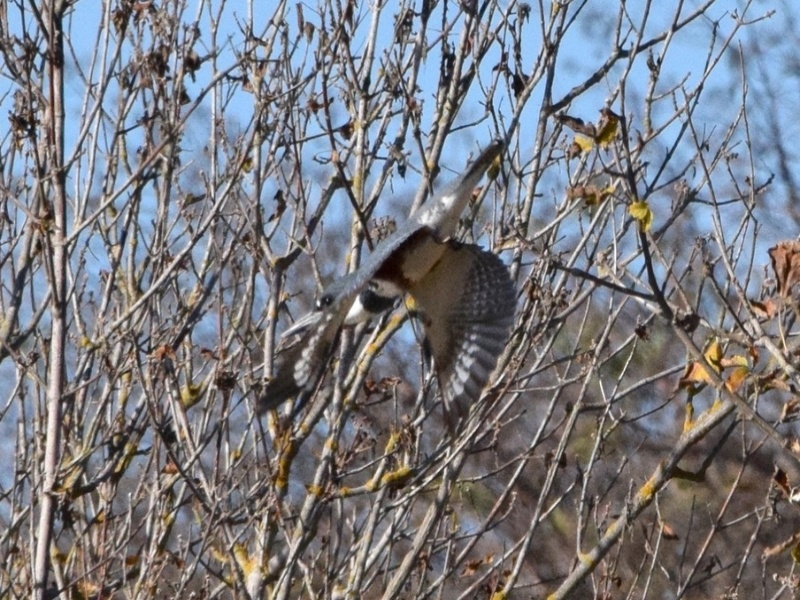kingfisher: (258, 130, 521, 426)
